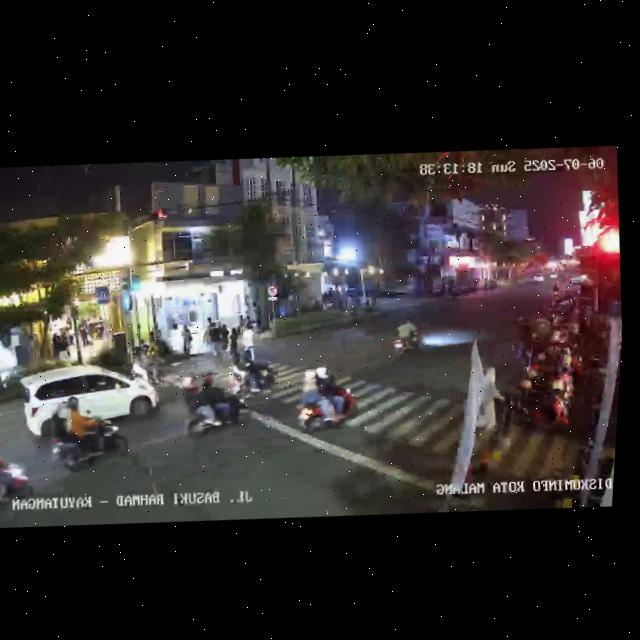car: (17, 354, 167, 440)
motorcycle: (39, 392, 129, 476), (178, 363, 258, 444), (287, 360, 363, 438), (228, 346, 282, 403), (0, 441, 37, 518), (123, 341, 180, 389), (388, 317, 422, 361)
person: (474, 363, 505, 435), (512, 316, 537, 363), (206, 321, 224, 359), (166, 314, 182, 352), (240, 321, 257, 356), (227, 323, 243, 359), (179, 322, 195, 357), (154, 329, 172, 360), (218, 321, 232, 359), (49, 330, 64, 361), (79, 317, 92, 348), (201, 323, 213, 348)
